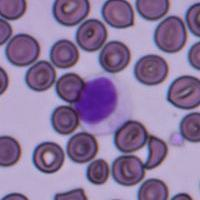L: (72, 73, 134, 134)
